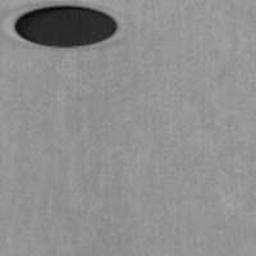Punching: (13, 4, 118, 49)
